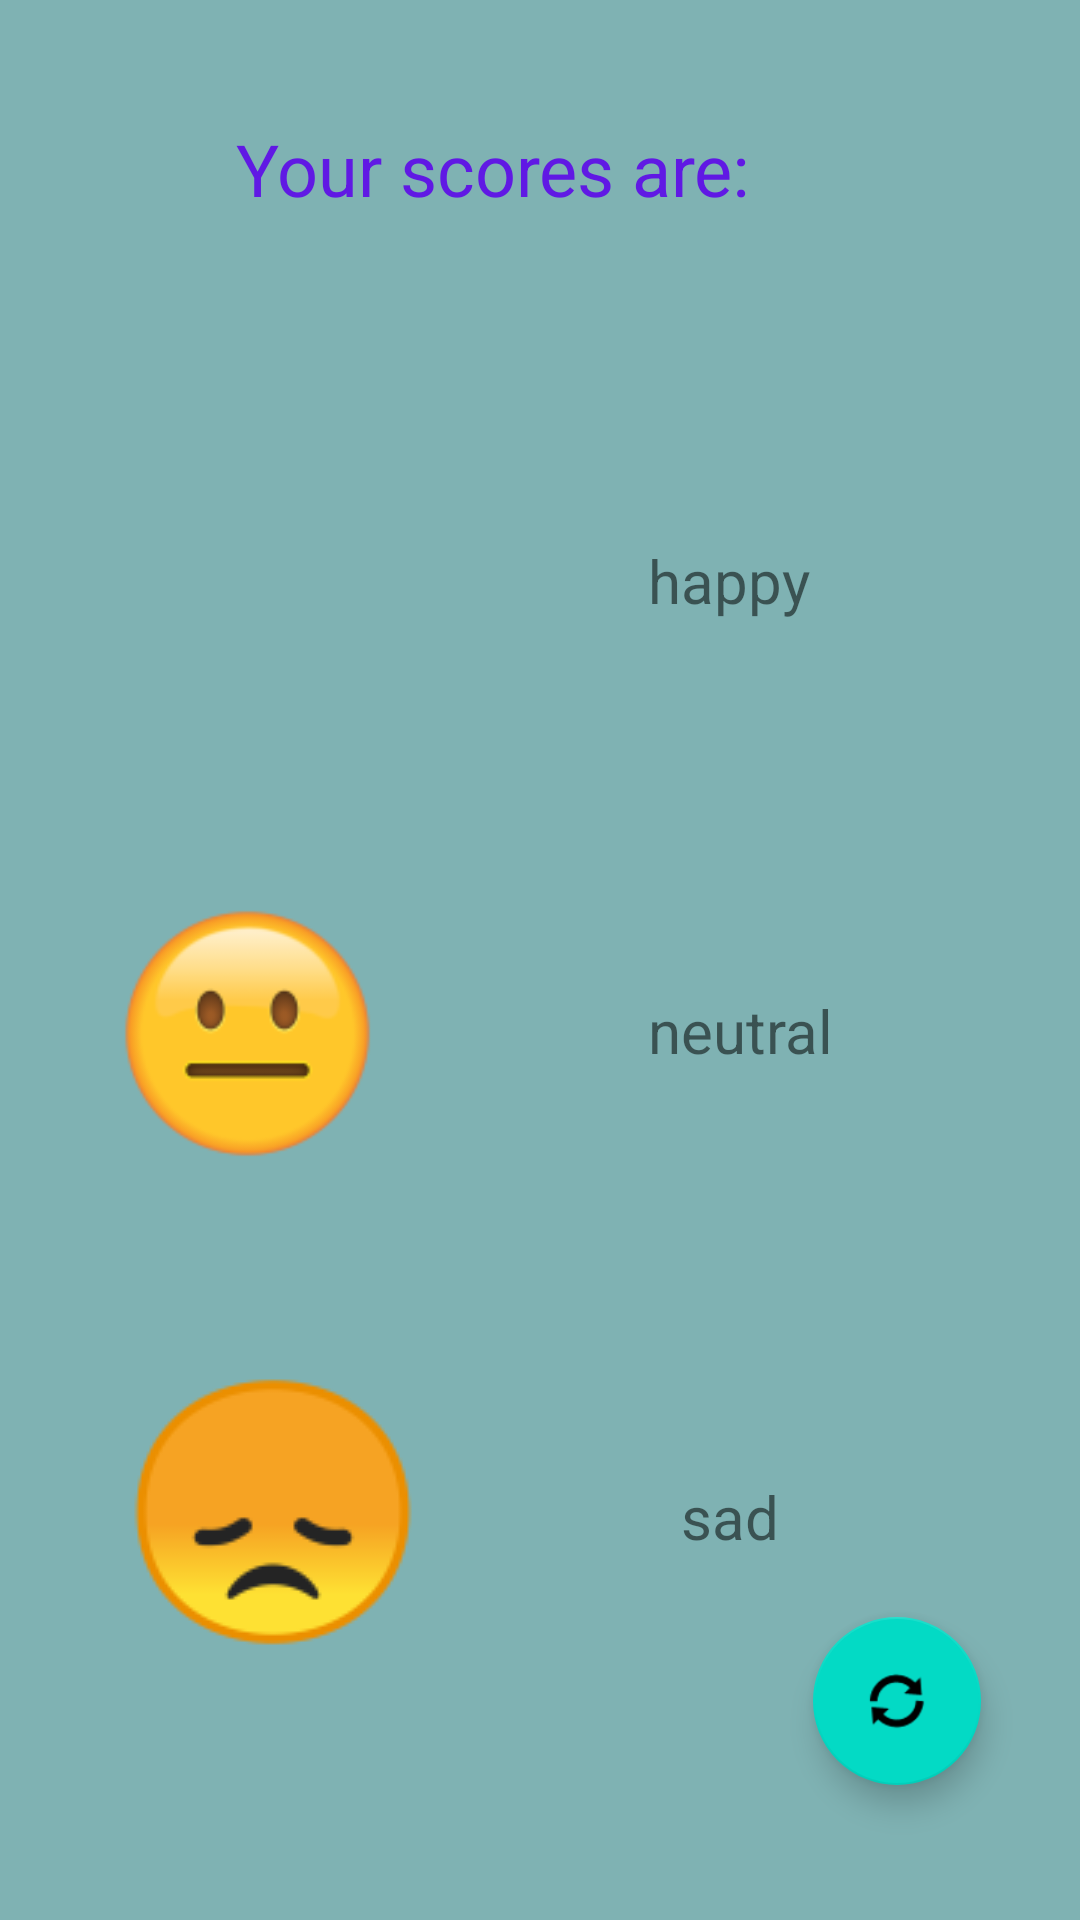

Point at icon controls on the screen. Image size 1080w x 1920h, points as [x,y].
popup sync: [897,1701]
sed: [273,1512]
